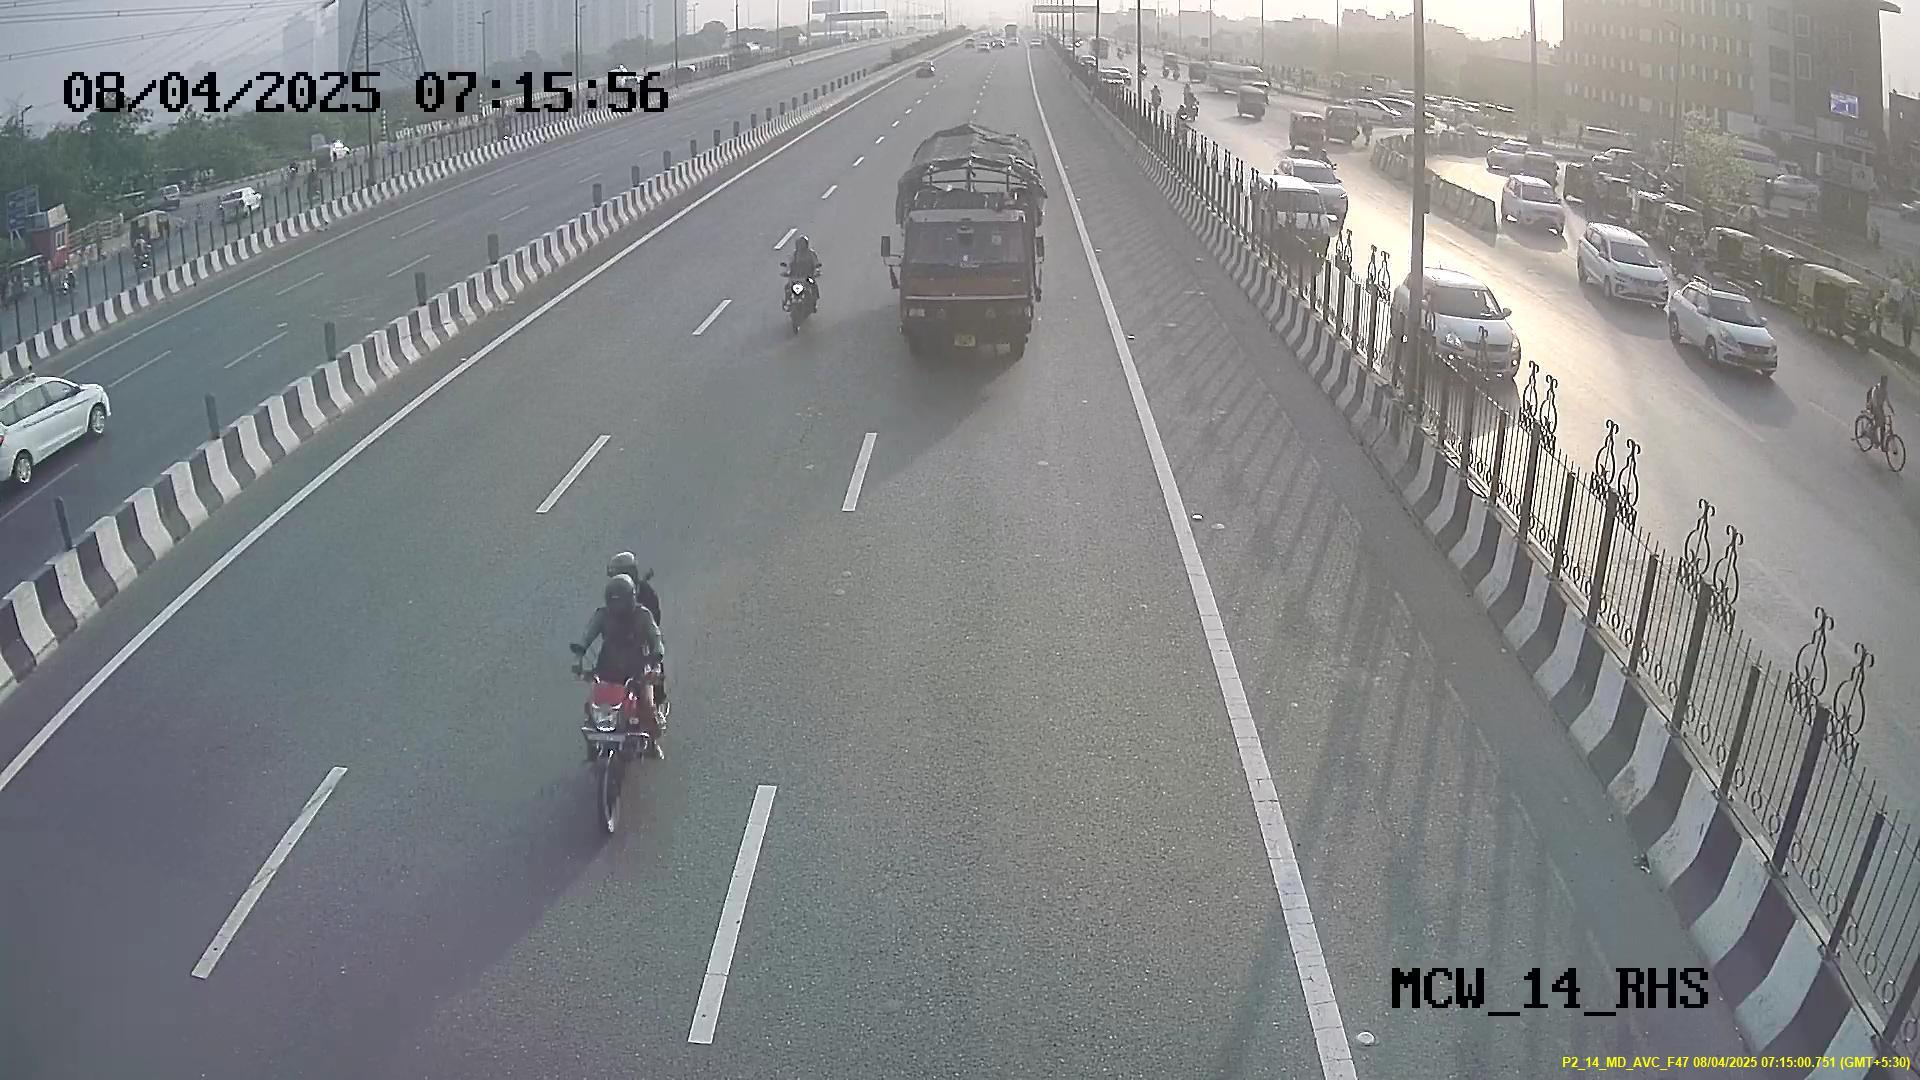bike: (556, 555, 674, 833), (771, 229, 825, 345)
lcv: (887, 207, 1054, 361)
